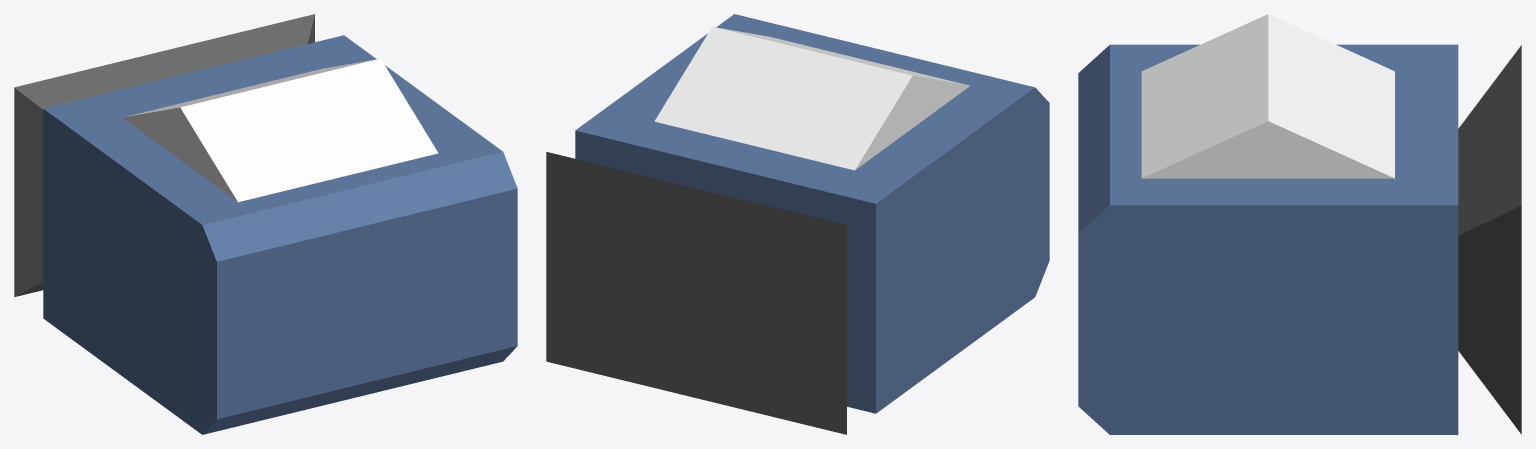
File: RamShip.fbx
3 views of the same model, side by side, from view 1: azimuth 30°, elevation 25°; view 2: azimuth 150°, elevation 25°; view 3: azimuth 270°, elevation 25° (orthographic). The views are drawn at different scales.
Parts seen in each view (by area): view 1: RamShip; view 2: RamShip; view 3: RamShip.
Boxes of the visible parts, bbox=[...] form: RamShip: bbox=[14, 14, 517, 434]; RamShip: bbox=[546, 14, 1049, 434]; RamShip: bbox=[1078, 14, 1521, 434].
Size of the model in its own units: 6 by 5 by 7.
